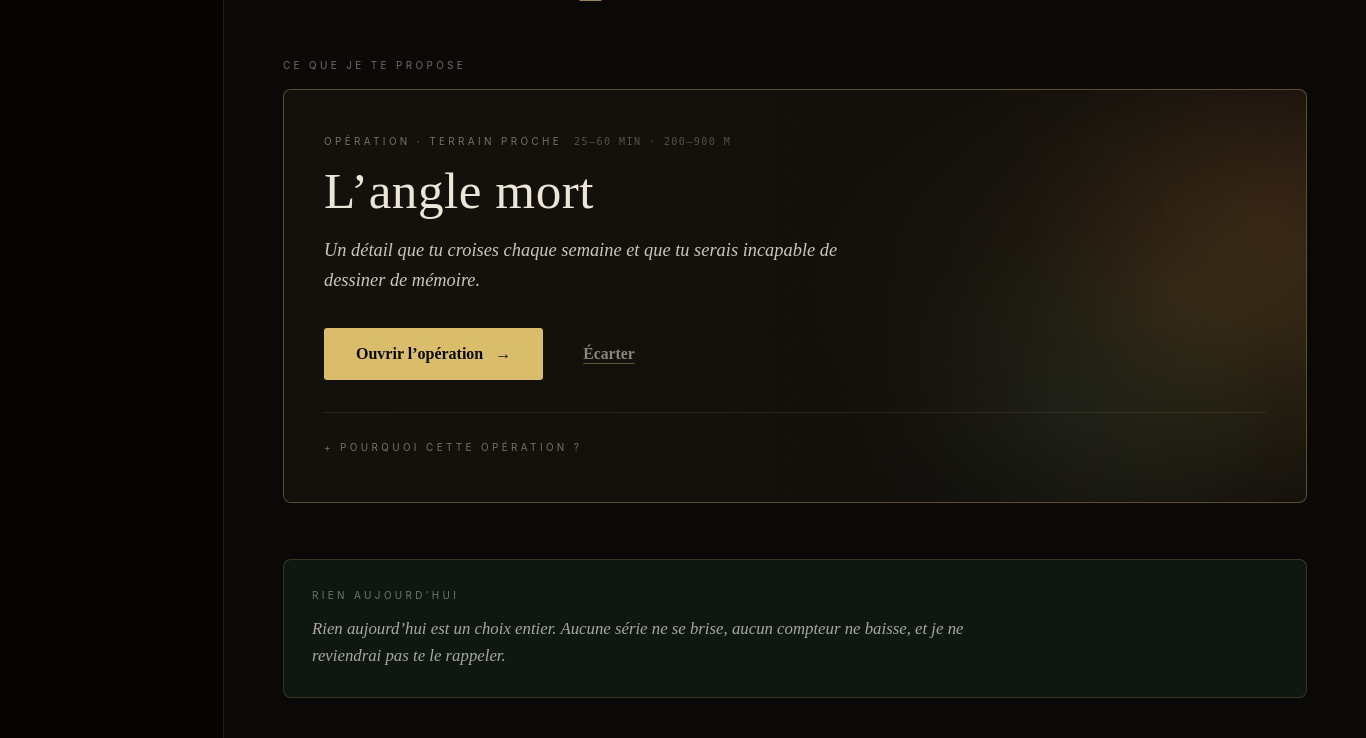
Scenario: shell et navigation › écarter une opération ne produit aucune pénalité affichée
The image size is (1366, 738).
(page scrolled)
Click the button "Écarter" at {"x": 609, "y": 354}, box [559,330,659,378]
(page scrolled)
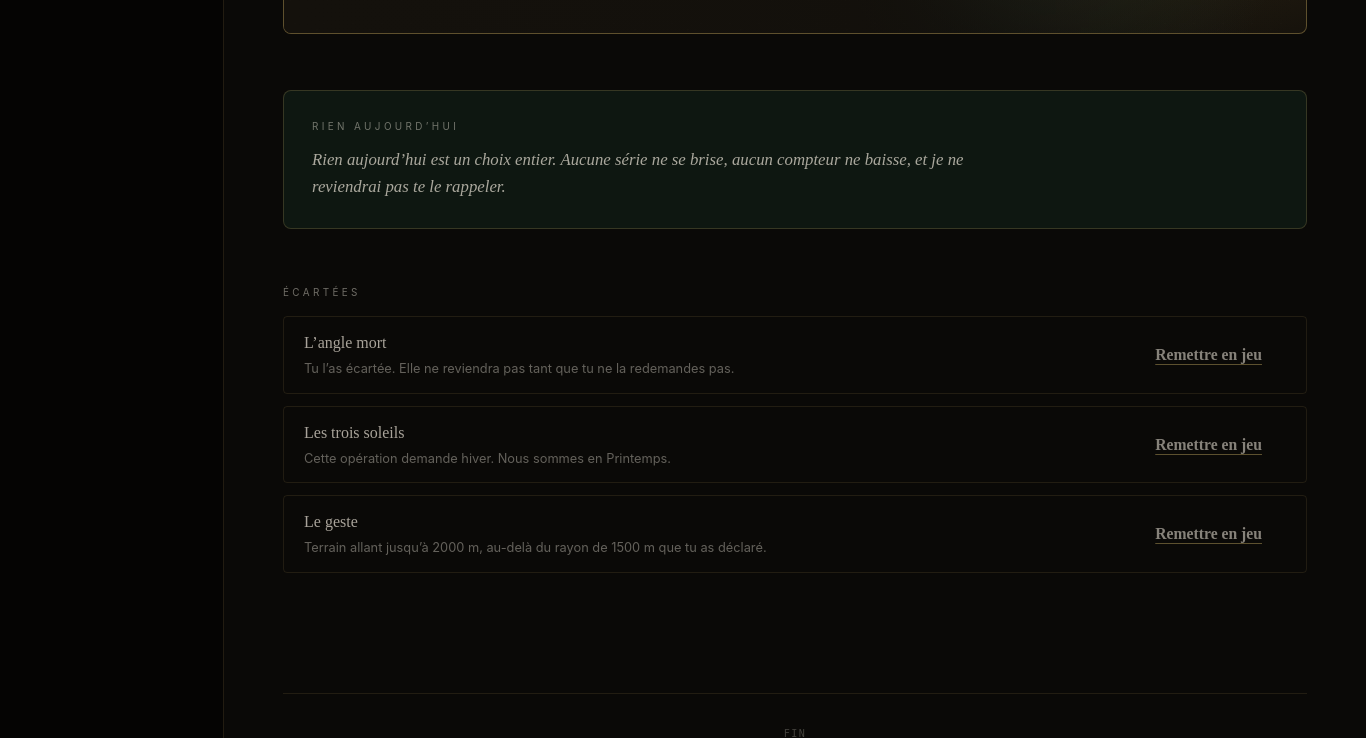
Check: the text "Écartées" is shown, box [283,286,361,298]
Check: the button "Remettre en jeu" in the row of "L’angle mort" is shown, box [1131,331,1286,378]
